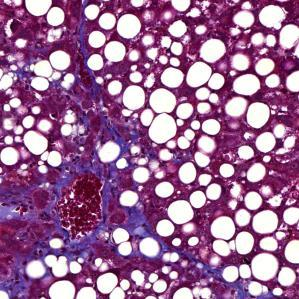fibrosis: (57, 151, 120, 218), (40, 233, 112, 260)
